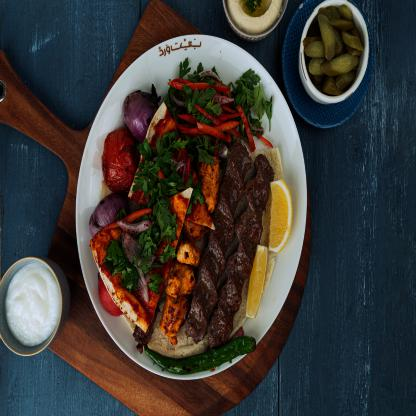Carne: (247, 157, 277, 213), (192, 264, 226, 309), (221, 159, 252, 208), (233, 204, 266, 250), (198, 233, 230, 280), (206, 305, 237, 348), (212, 201, 241, 244), (182, 298, 212, 338), (226, 144, 258, 179), (228, 246, 254, 288), (220, 285, 246, 311)
